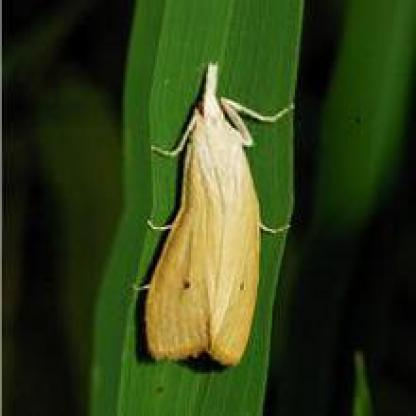stem-borer: (133, 58, 294, 368)
